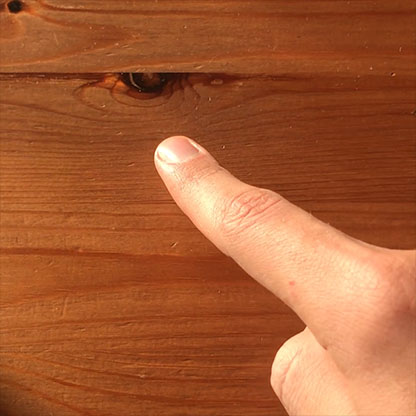fingertip: (135, 124, 220, 185)
